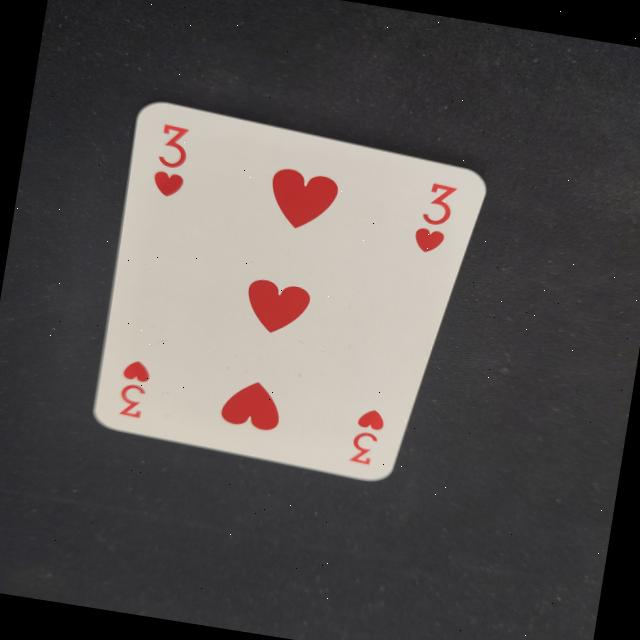3h: (403, 174, 467, 262), (145, 116, 201, 206), (108, 350, 160, 428), (341, 399, 393, 474)
